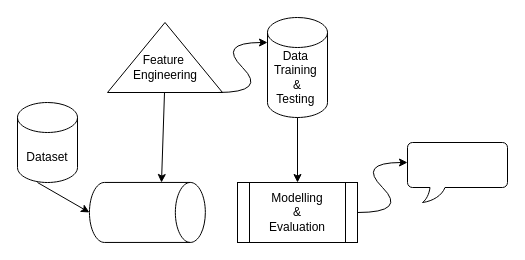
This 525x260 diagram has some shape labels left out. The box of each missing label's shape, as (x1, y1, x2, y2) in pixels:
Data Preprocessing: (88, 182, 205, 242)
Fall Notification: (406, 142, 508, 202)
